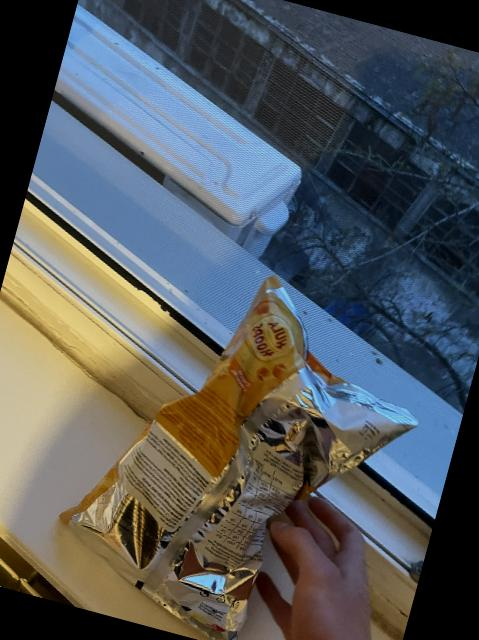Chio Hula Hoops Cheese 70g: (38, 236, 445, 640)
